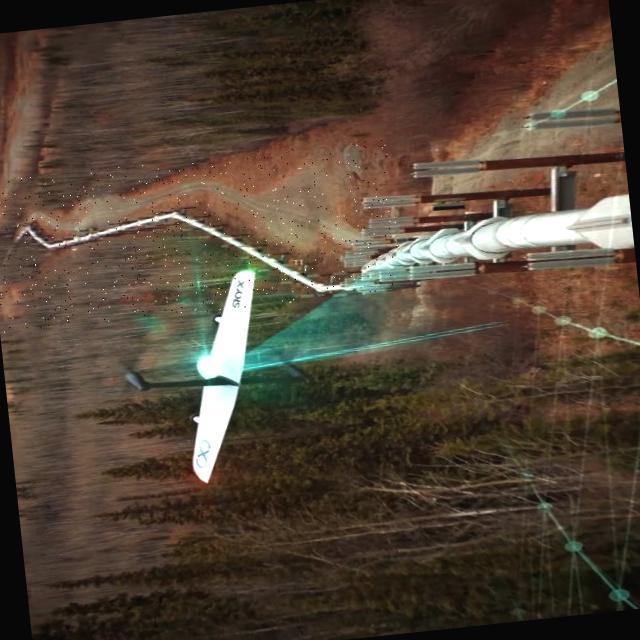gas: (361, 193, 633, 271)
